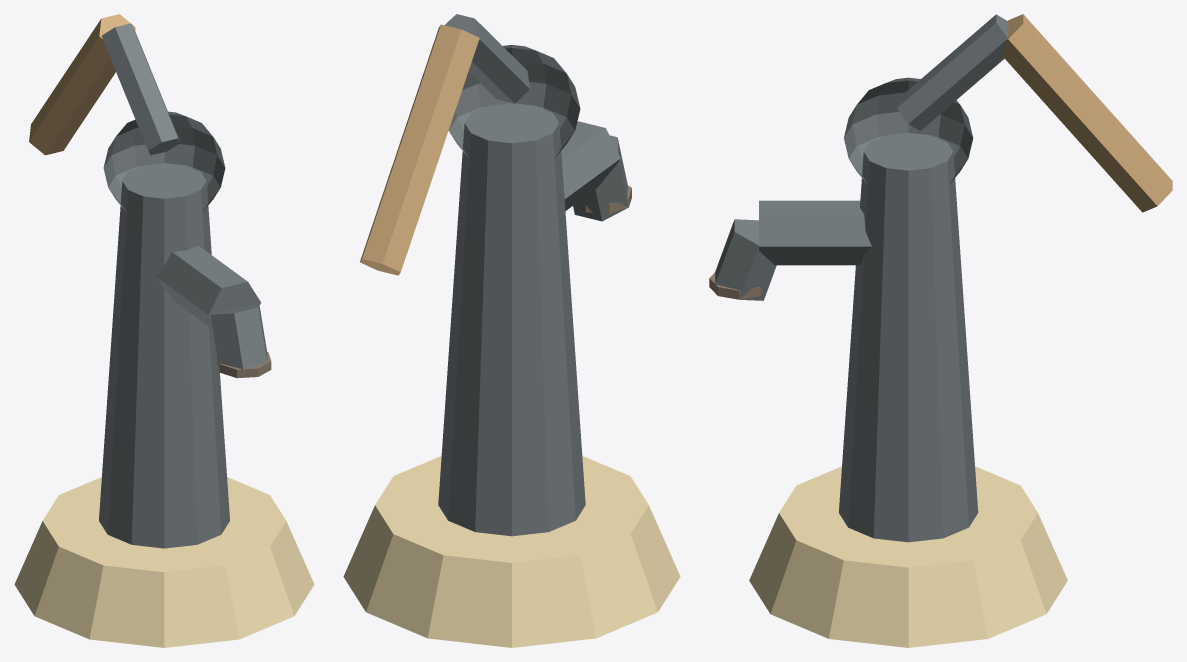
The model's file is harvest-hearth-hand-water-pump__66.glb.
The picture shows the model from 3 angles, left to right: view 1: azimuth 30°, elevation 25°; view 2: azimuth 150°, elevation 25°; view 3: azimuth 270°, elevation 25°; orthographic projection. The views are drawn at different scales.
Parts seen in each view (by area): view 1: harvest-hearth-water-pump; view 2: harvest-hearth-water-pump; view 3: harvest-hearth-water-pump.
Part boxes in pixels (box(x1,y1,x2,y2)): harvest-hearth-water-pump: box(14, 14, 314, 647); harvest-hearth-water-pump: box(343, 14, 680, 647); harvest-hearth-water-pump: box(709, 14, 1172, 647).
Size of the model in its own units: 0.64 by 1.25 by 0.9303.
